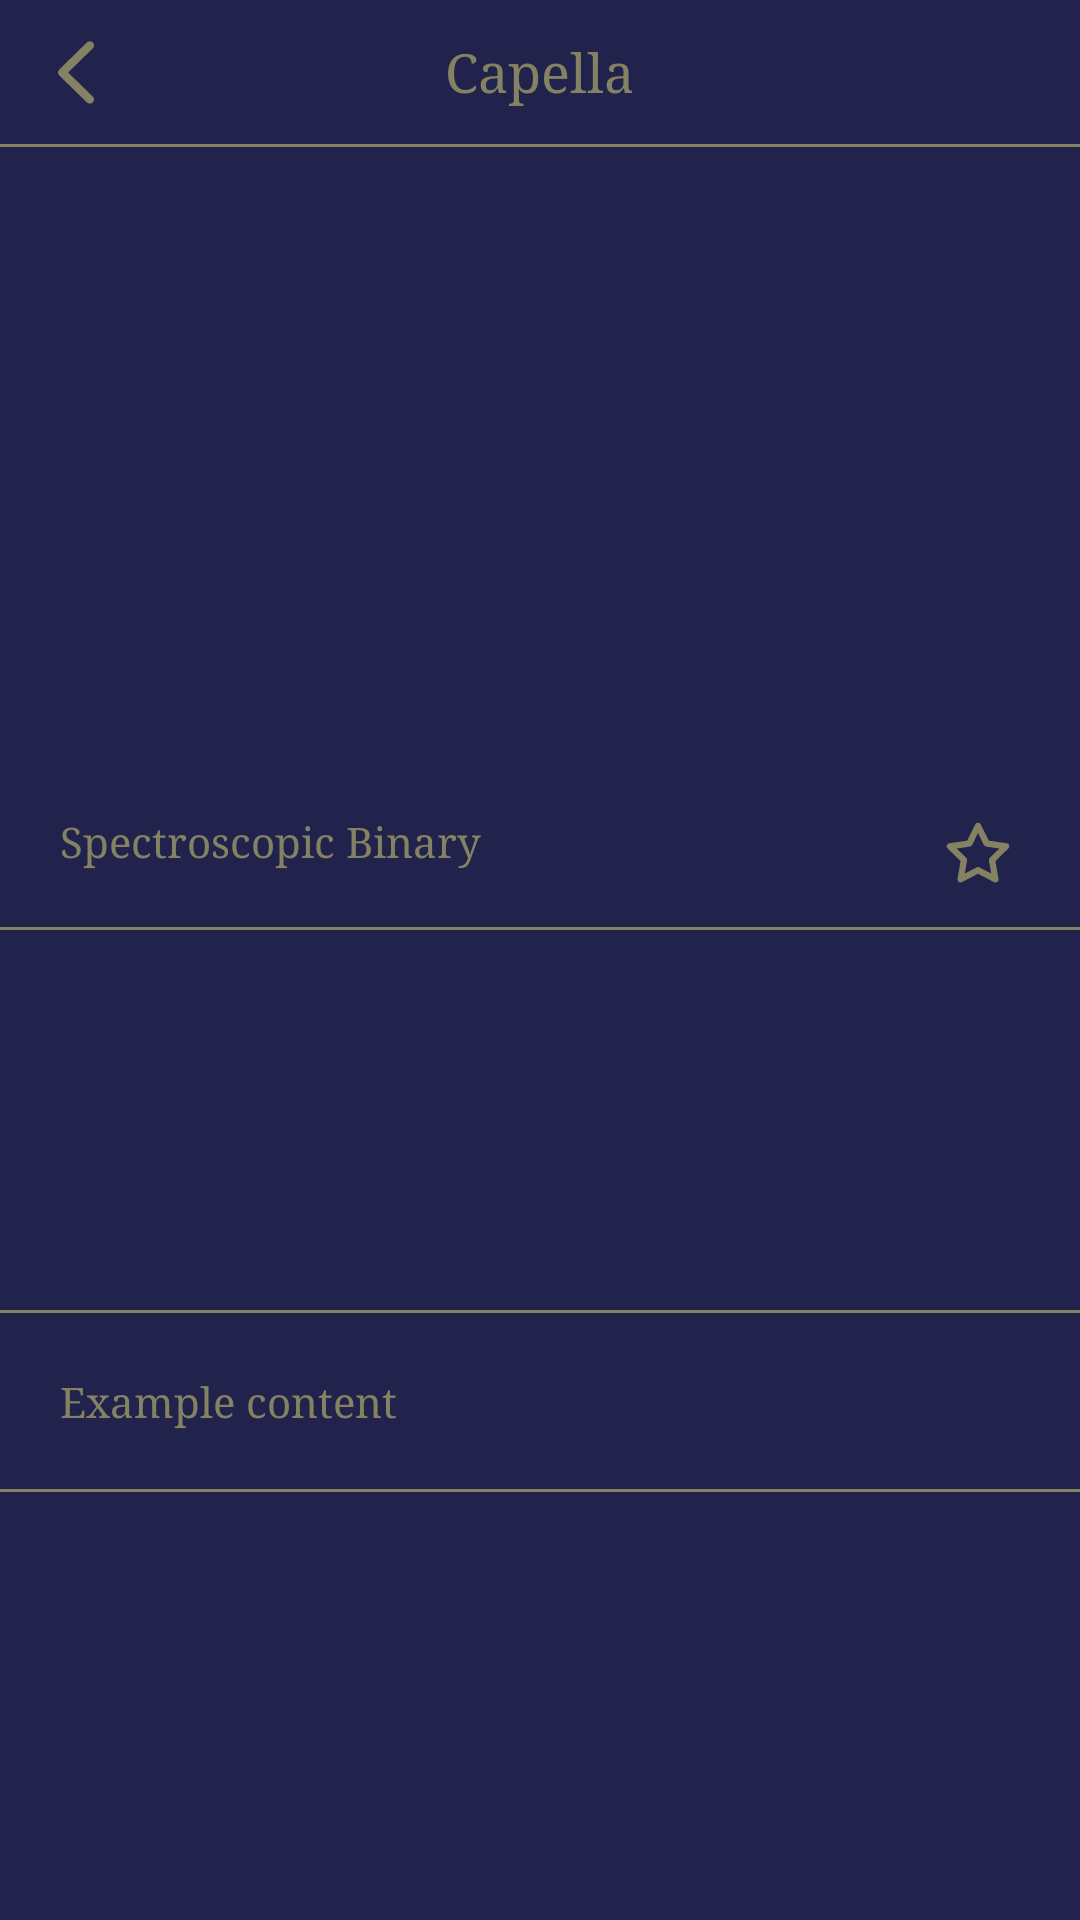

Icons on this 1080*1920 Android screen, each with its box as (x1, y1, x2, y2):
Back: (58, 41, 94, 104)
Favorite: (946, 823, 1009, 883)
